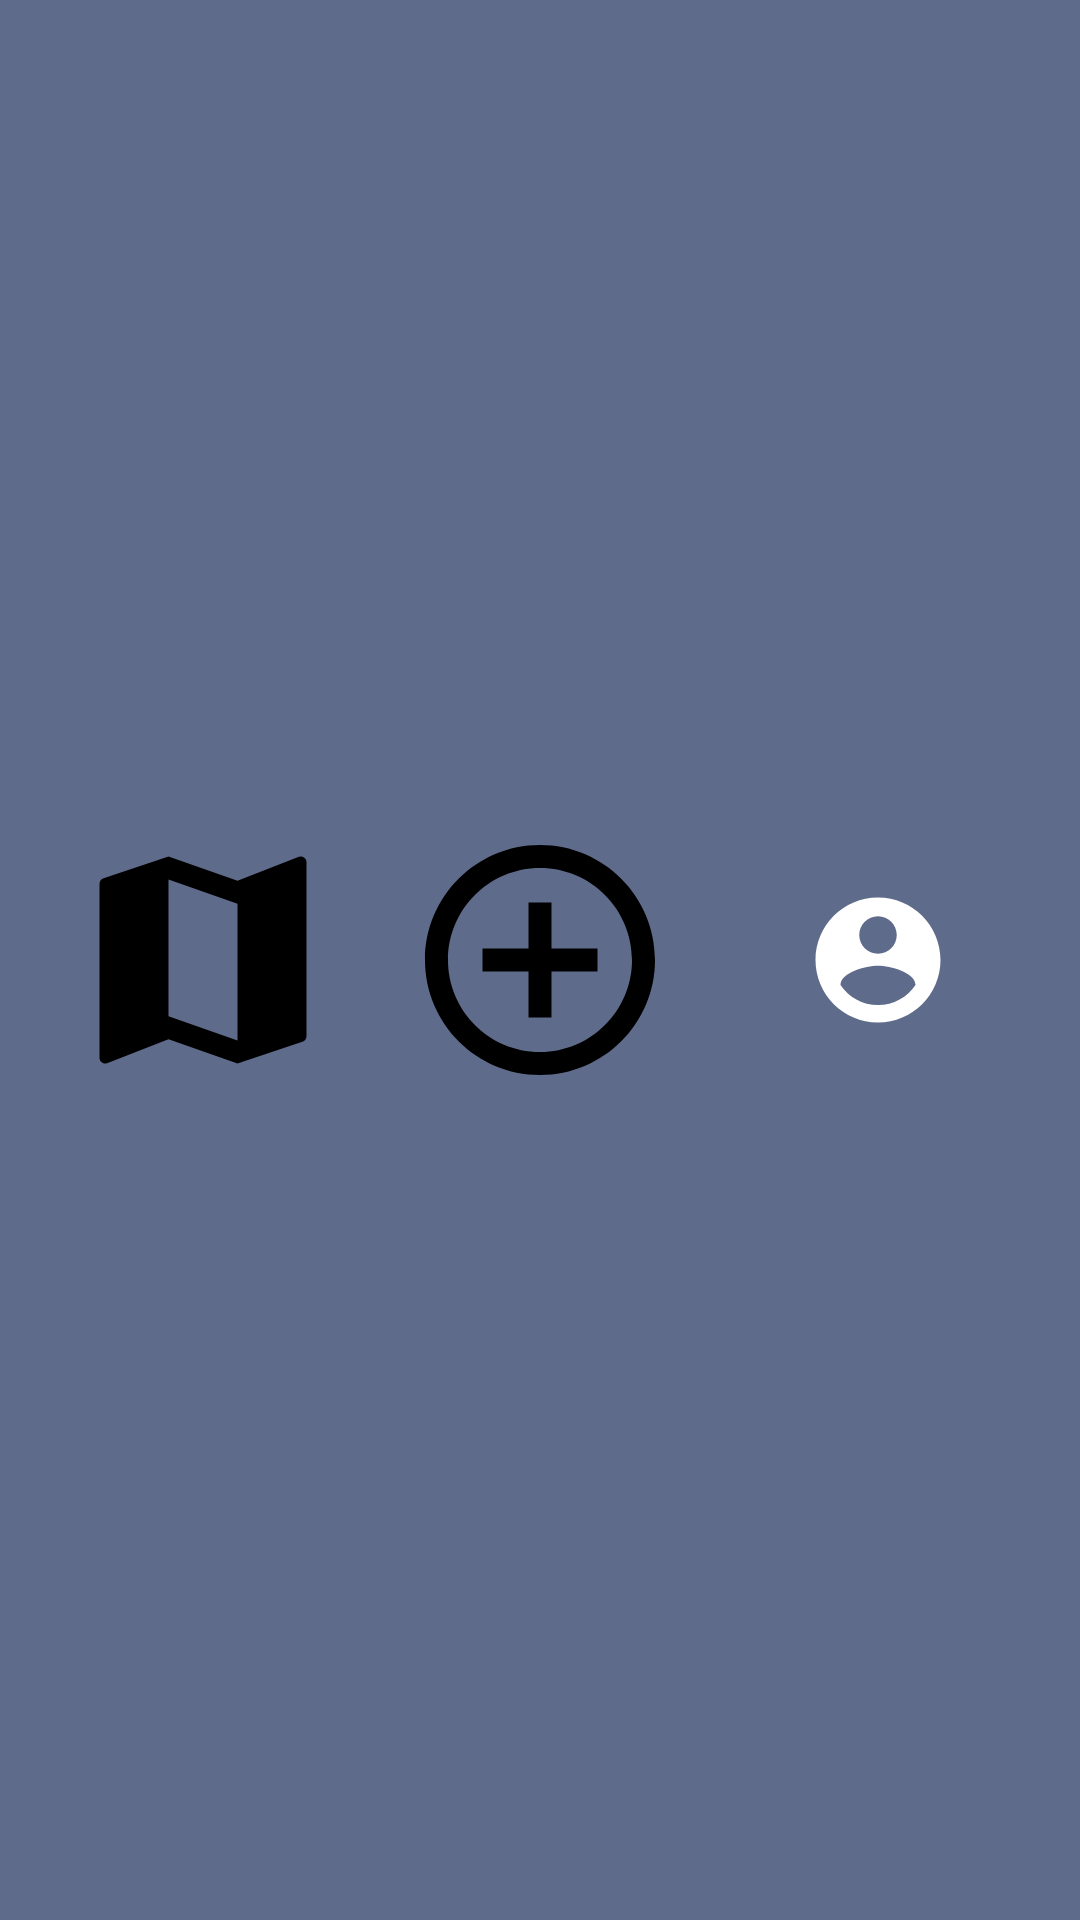

Screen size 1080 x 1920. Icon name, then its center in pixels as [x,y]:
create request: [540,960]
